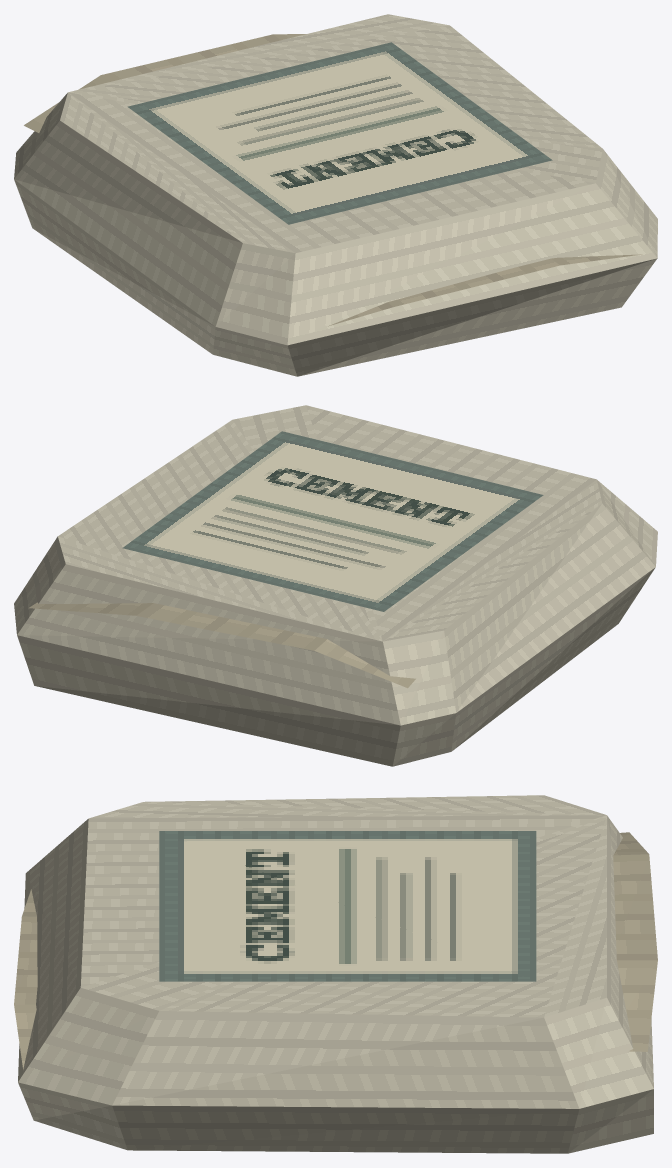
The model's file is bag_durasack_cement.glb.
3 renders of one model, top to bottom at view 1: azimuth 30°, elevation 25°; view 2: azimuth 150°, elevation 25°; view 3: azimuth 270°, elevation 25°, orthographic. The views are drawn at different scales.
Parts seen in each view (by area): view 1: block_bulging woven cement sack, block_printed cement face, block_folded sealed mouth, block_heavy stitched bottom seam; view 2: block_bulging woven cement sack, block_printed cement face, block_folded sealed mouth (×3); view 3: block_bulging woven cement sack, block_printed cement face, block_folded sealed mouth (×2), block_heavy stitched bottom seam (×2).
Part boxes in pixels (x1=…): block_bulging woven cement sack: x1=14, y1=14, x2=657, y2=376; block_printed cement face: x1=127, y1=42, x2=552, y2=224; block_folded sealed mouth: x1=101, y1=34, x2=280, y2=81; block_heavy stitched bottom seam: x1=388, y1=258, x2=559, y2=306; block_bulging woven cement sack: x1=14, y1=405, x2=657, y2=766; block_printed cement face: x1=122, y1=431, x2=543, y2=611; block_folded sealed mouth (×3): x1=28, y1=602, x2=415, y2=688; block_bulging woven cement sack: x1=18, y1=795, x2=653, y2=1153; block_printed cement face: x1=159, y1=831, x2=536, y2=981; block_folded sealed mouth (×2): x1=613, y1=854, x2=657, y2=1051; block_heavy stitched bottom seam (×2): x1=14, y1=916, x2=37, y2=1069.
Size of the model in its own units: 0.1831 by 0.0435 by 0.195.
Materials: 2 (2 with a texture image).
